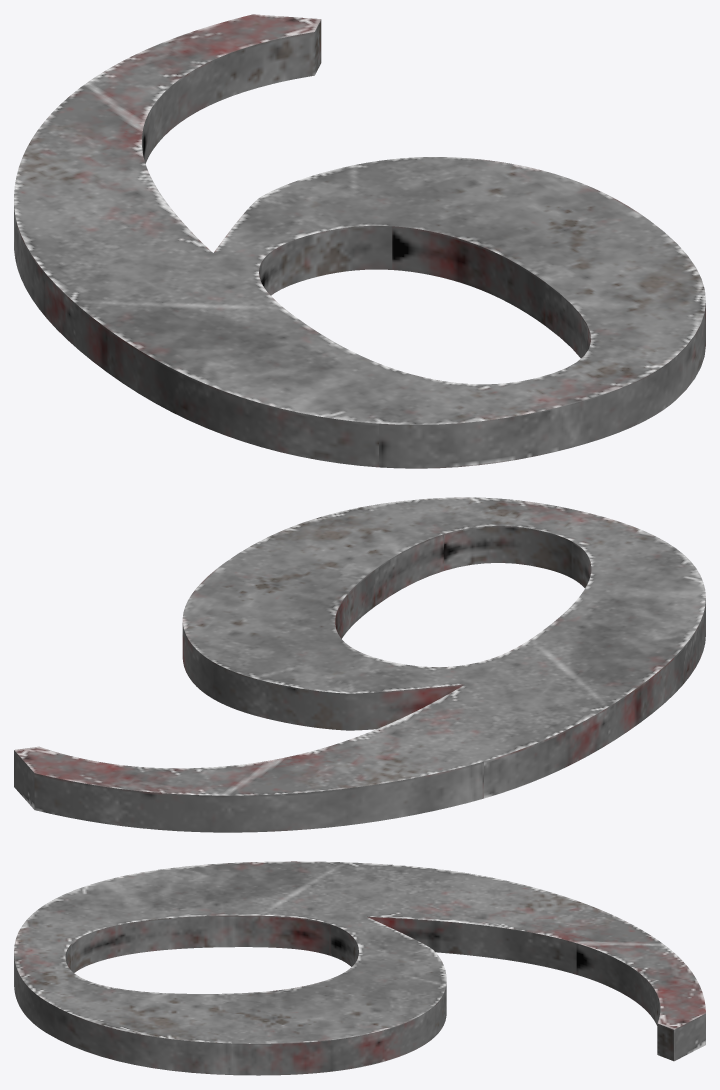
The model's file is counter_num_6.fbx.
3 views of the same model, one above another, from view 1: azimuth 30°, elevation 25°; view 2: azimuth 150°, elevation 25°; view 3: azimuth 270°, elevation 25° (orthographic). The views are drawn at different scales.
Parts seen in each view (by area): view 1: 6; view 2: 6; view 3: 6.
Boxes of the visible parts, box(x1,y1,x2,y2) form: 6: box(14, 14, 705, 468); 6: box(14, 497, 705, 832); 6: box(14, 861, 705, 1075).
Bounding box in the file's own units: 12.62 × 1.02 × 20.23.
